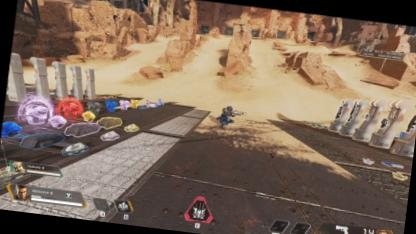Target: (216, 102, 235, 130)
